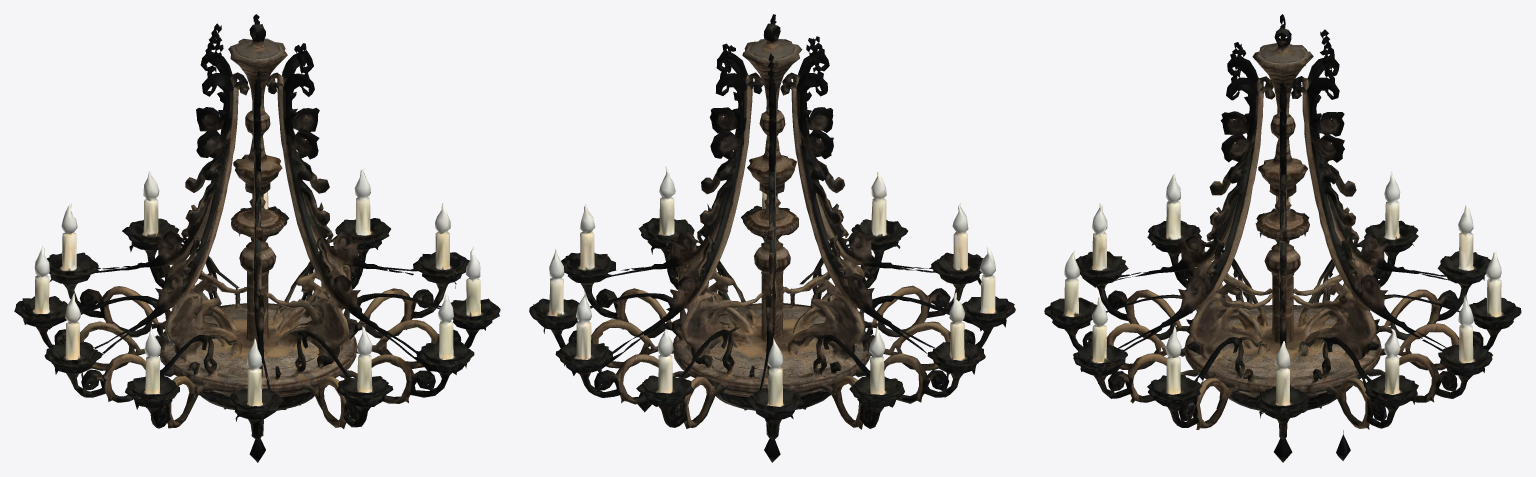
Rendered from gothic_chandelier.glb.
The picture shows the model from 3 angles, left to right: view 1: azimuth 30°, elevation 25°; view 2: azimuth 150°, elevation 25°; view 3: azimuth 270°, elevation 25°; orthographic projection.
Size of the model in its own units: 1.91 by 1.91 by 1.91.
Materials: 1 (1 with a texture image).
